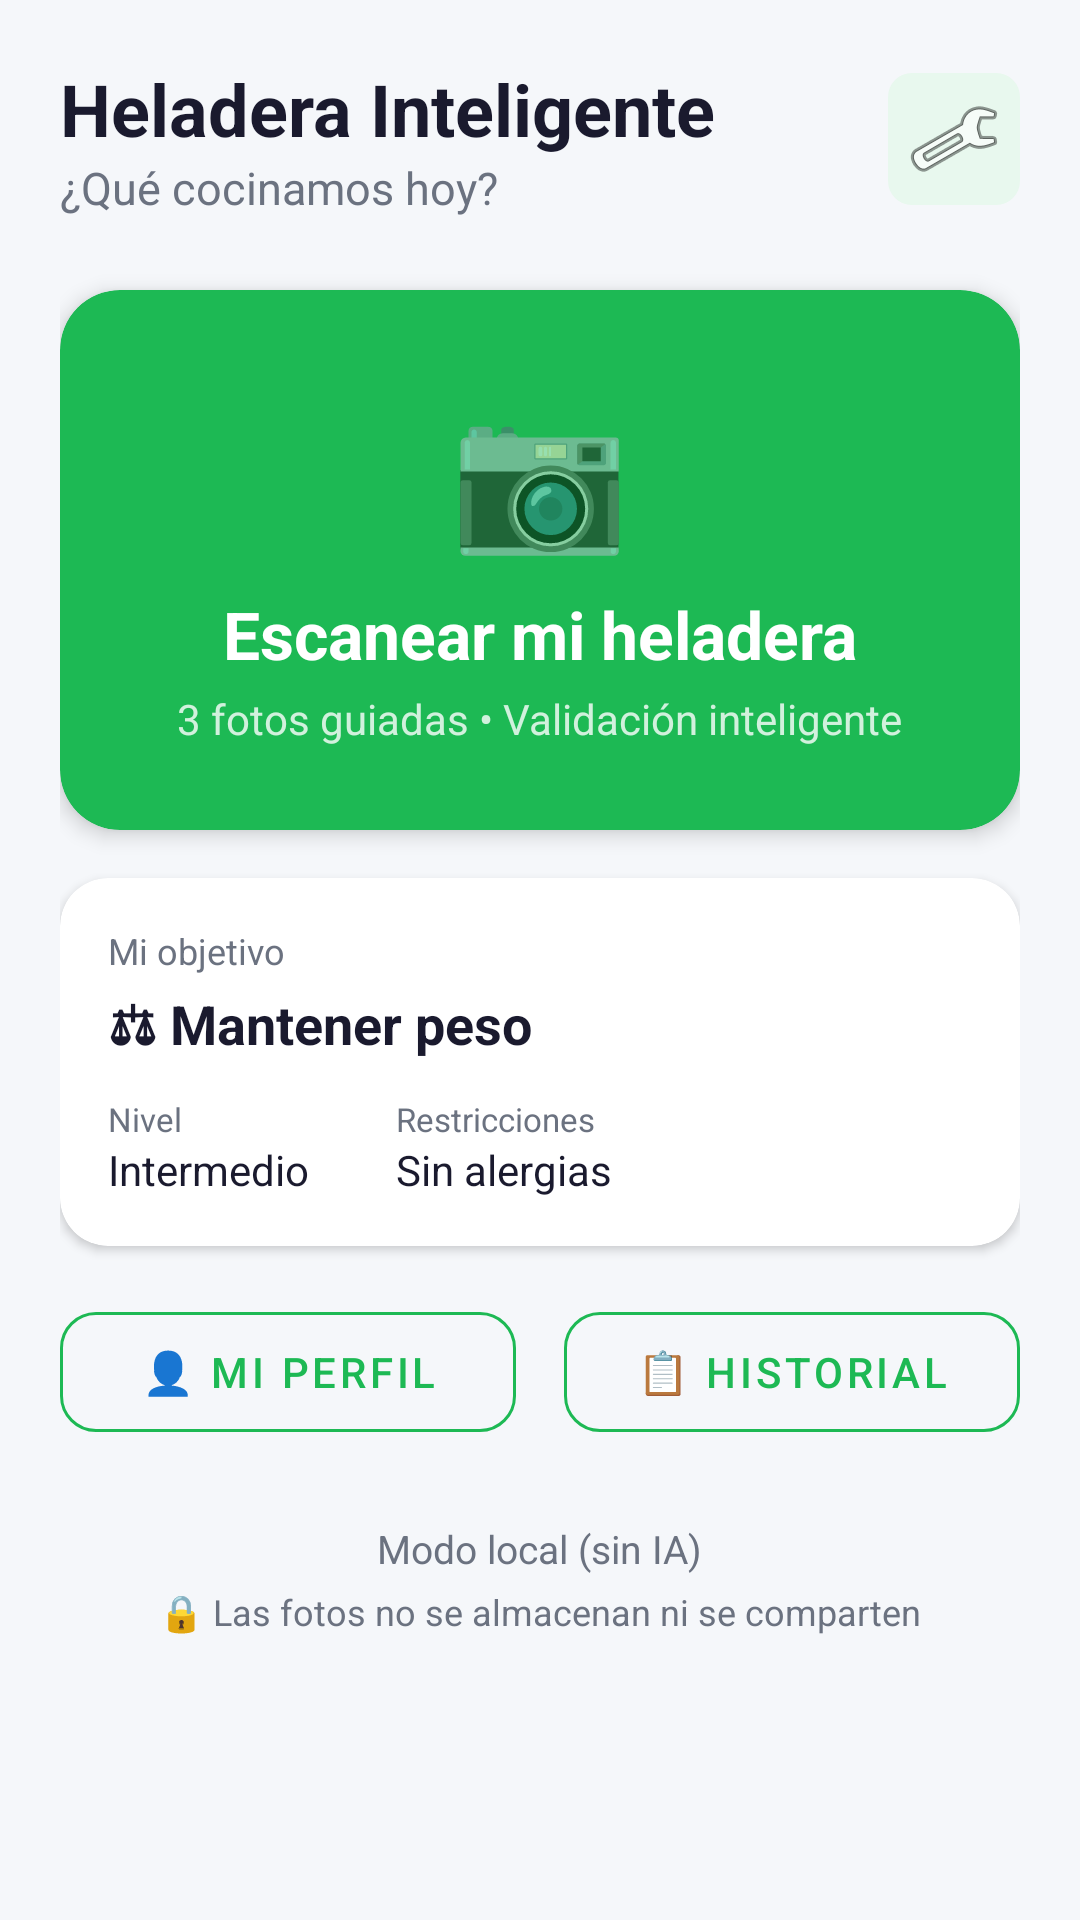

Screen size 1080x1920. Icon name, then its box in pixels as (left=x1, top=y1, right=x2, bottom=y2):
Configuración: (left=888, top=73, right=1020, bottom=205)
